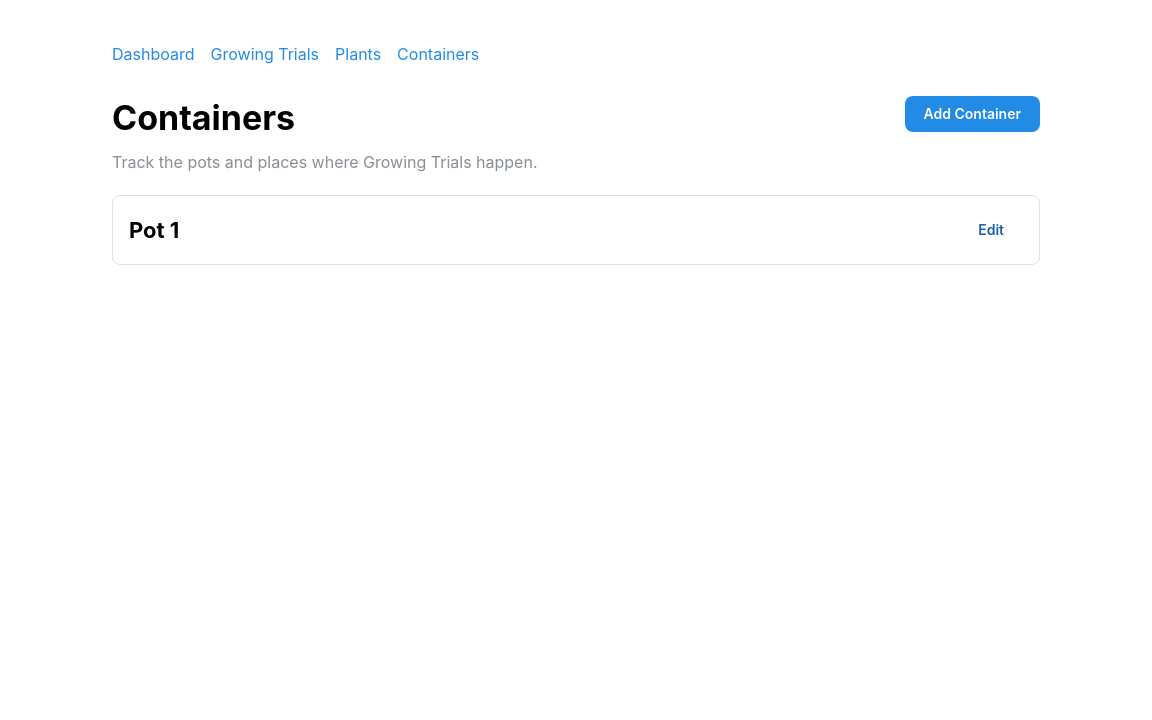
Test: ContainersPage › edits a Container and shows the updated name in the list
Expected: the heading "Pot 1" is shown, [129,215,179,245]
Click the button with aria-label "Edit Pot 1": x=991, y=230 [959,212,1023,248]
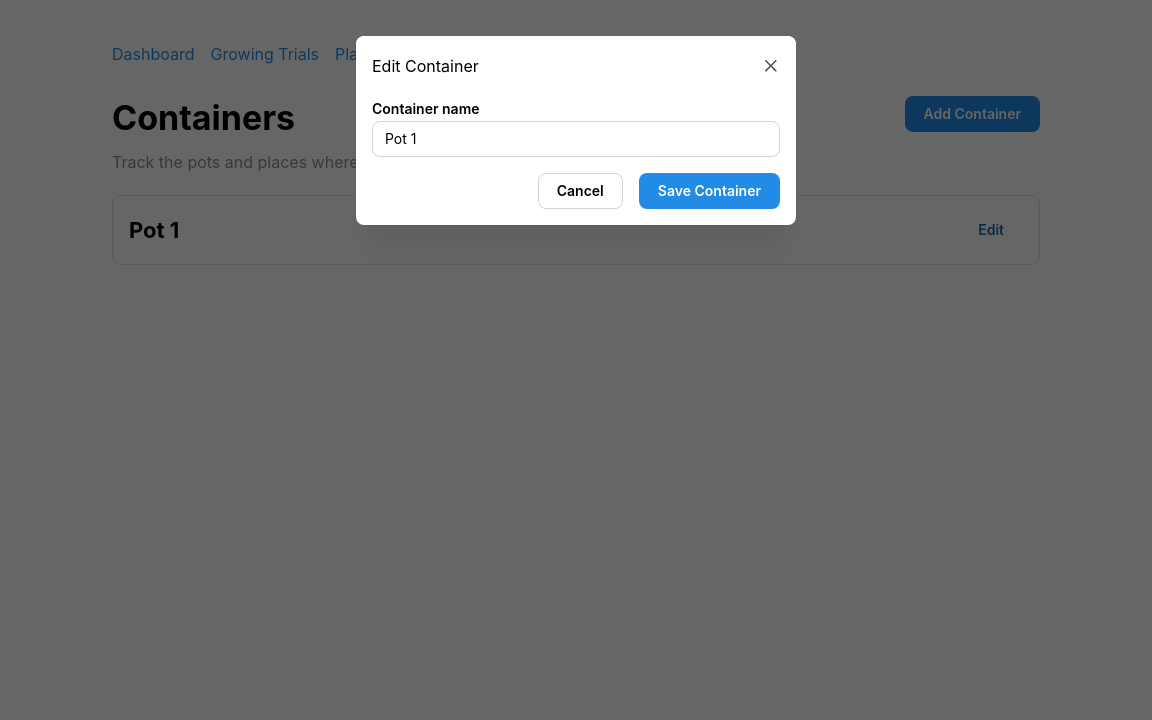
Replace the text in the field labelled "Container name" with "Front Porch Pot": x=576, y=139 [372,121,780,157]
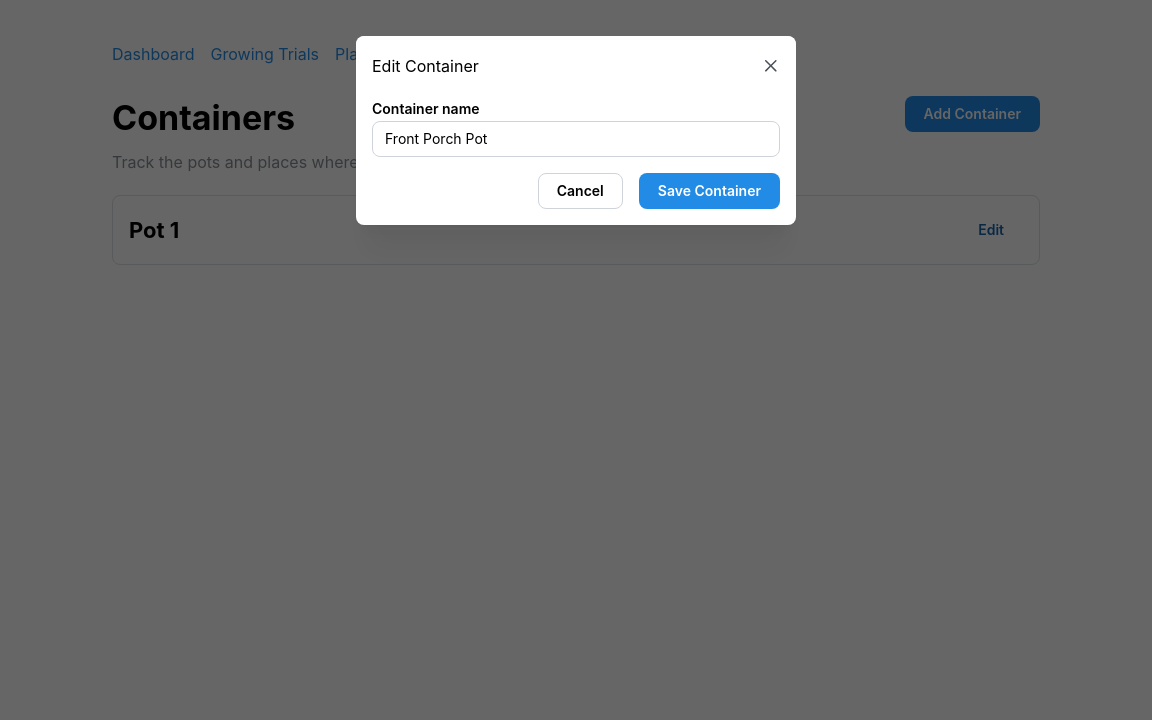
Click the button "Save Container": x=709, y=191 [639,173,780,209]
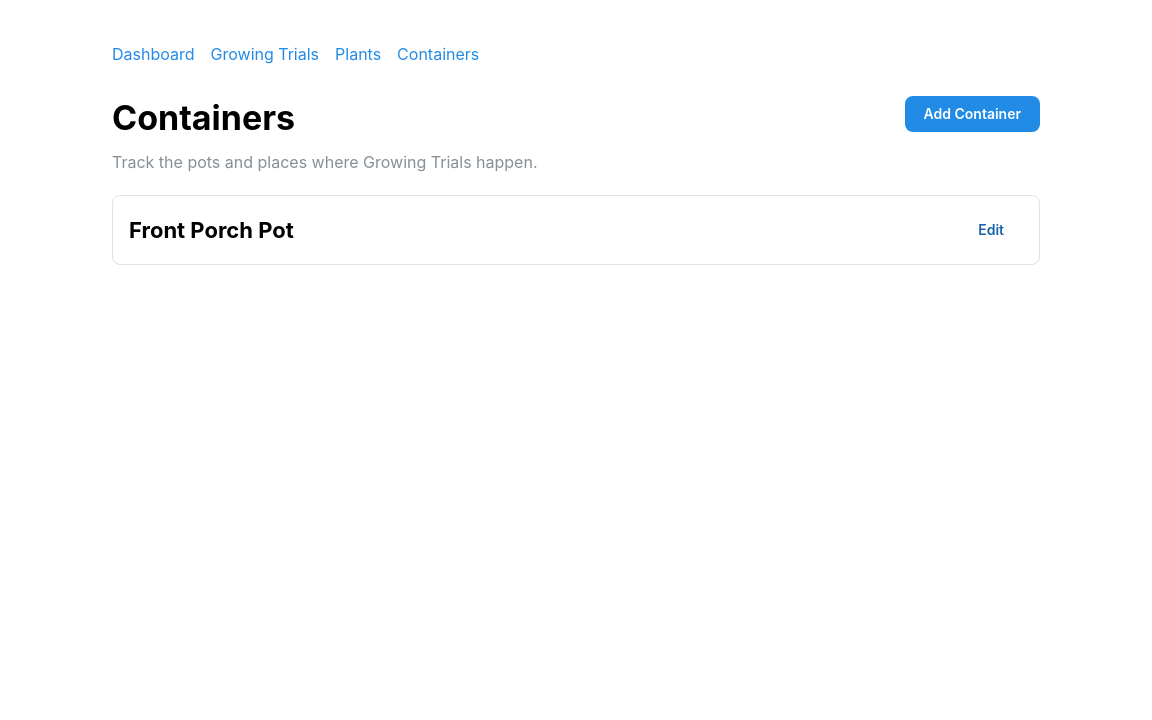
Now the heading "Front Porch Pot" is shown, box [129,215,294,245]
Now the heading "Pot 1" is gone
